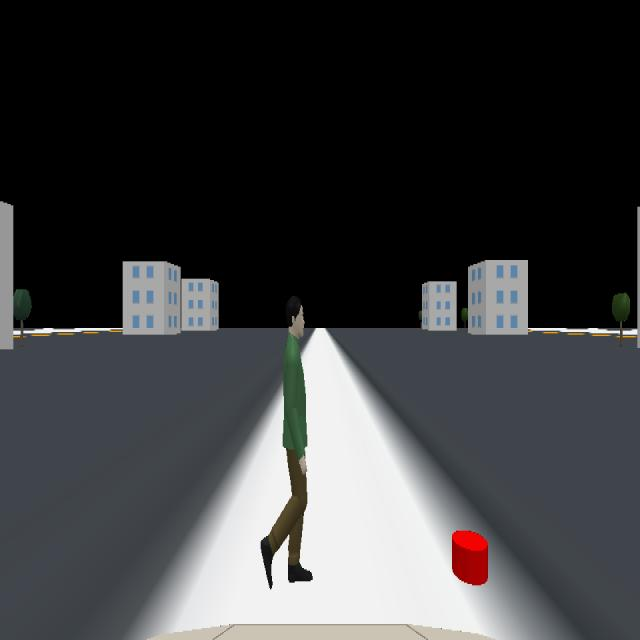human: (259, 295, 313, 589)
